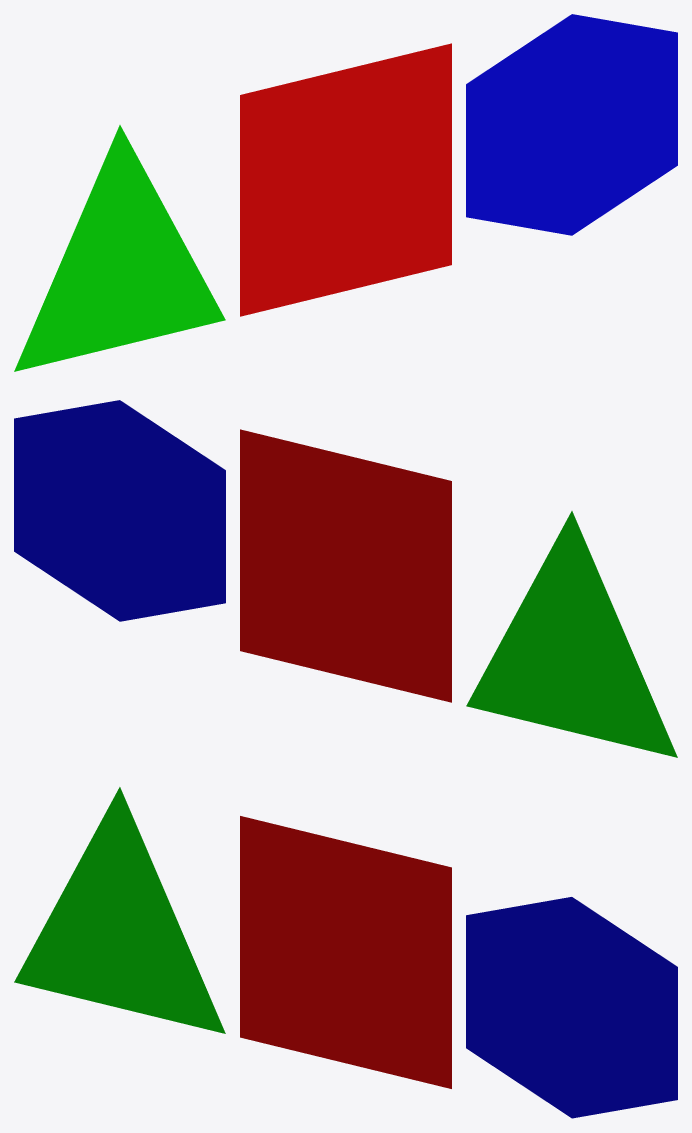
The model's file is multiFullExtra.dae.
The picture shows the model from 3 angles, top to bottom: view 1: azimuth 30°, elevation 25°; view 2: azimuth 150°, elevation 25°; view 3: azimuth 330°, elevation 25°; orthographic projection.
Visible parts, largest first — view 1: pCube1, hexagon, triangle; view 2: pCube1, hexagon, triangle; view 3: pCube1, hexagon, triangle.
Part boxes in pixels (x1,y1,x2,y2): pCube1: (240,43,451,316); hexagon: (466,14,677,235); triangle: (14,125,225,371); pCube1: (240,429,451,702); hexagon: (14,400,225,621); triangle: (466,511,677,757); pCube1: (240,816,451,1088); hexagon: (466,897,677,1118); triangle: (14,787,225,1033).
Size of the model in its own units: 235 by 75 by 0.
